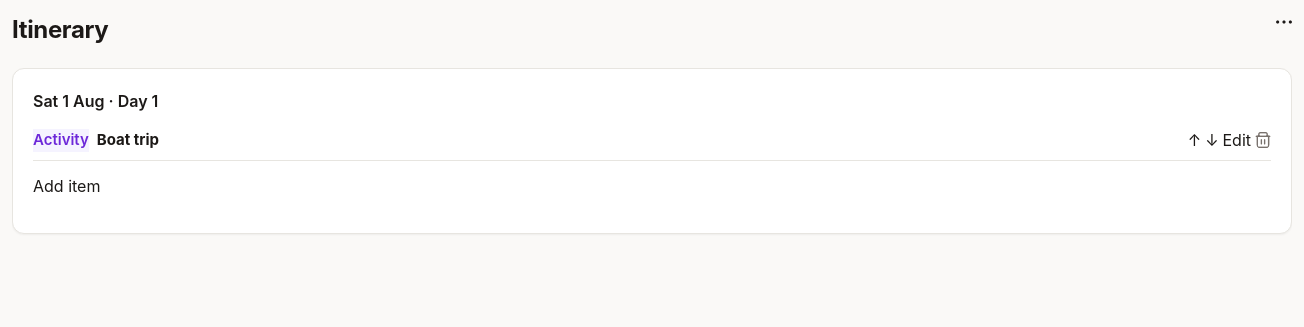
Test case: TripItineraryView › at rest, AI draft is not a visible button; it is an item in the ⋯ menu
Expected: the text "Add to calendar" is not shown
Expected: the text "Print / PDF" is not shown
Click the button named "More itinerary actions".
click(1284, 22)  # box [1276, 12, 1292, 32]
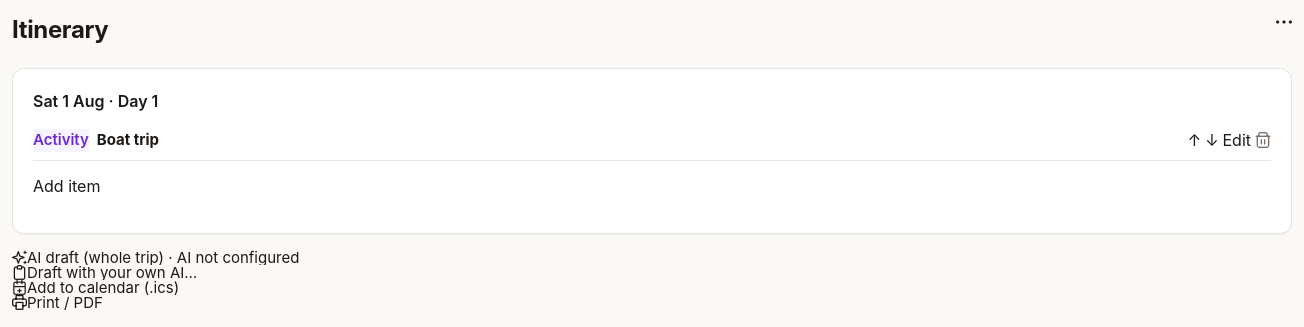
Now the text "AI draft (whole trip)" is shown, box [27, 250, 299, 265]
Now the text "Add to calendar (.ics)" is shown, box [27, 280, 179, 295]
Now the text "Print / PDF" is shown, box [27, 295, 103, 310]
